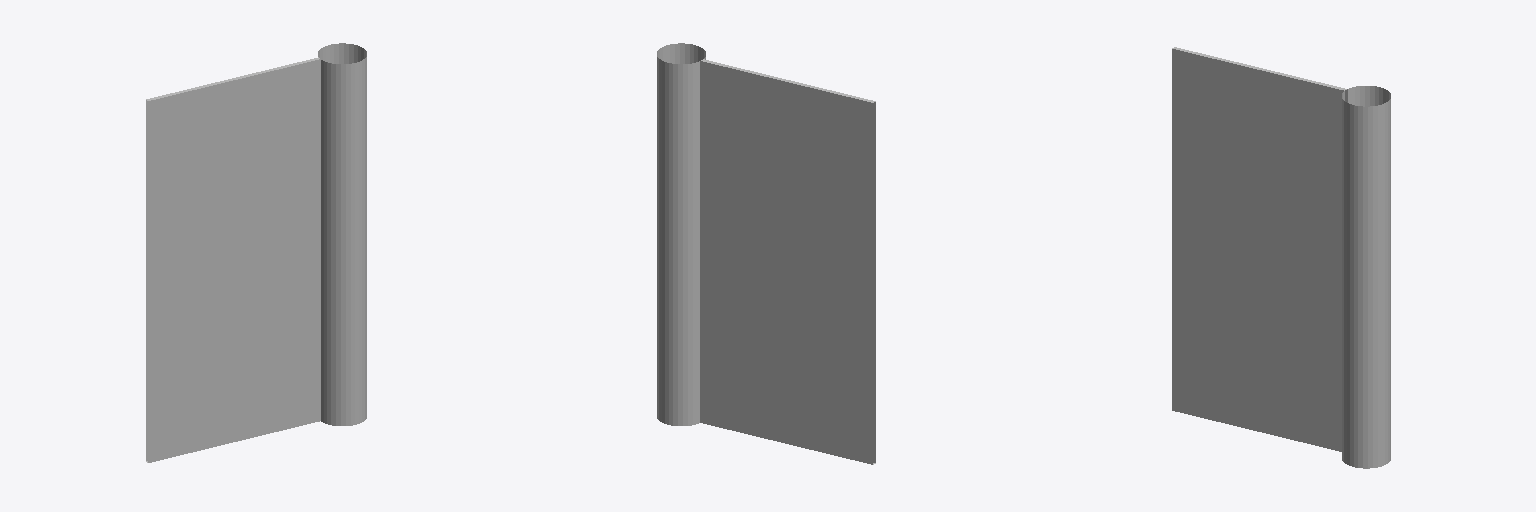
Rendered from spl-goalpost-right-v3.obj.
The picture shows the model from 3 angles: view 1: azimuth 30°, elevation 25°; view 2: azimuth 150°, elevation 25°; view 3: azimuth 330°, elevation 25°; orthographic projection.
Visible parts, largest first — view 1: GoalPost_right_Cylinder.003; view 2: GoalPost_right_Cylinder.003; view 3: GoalPost_right_Cylinder.003.
Boxes of the visible parts, box(x1,y1,x2,y2) form: GoalPost_right_Cylinder.003: box(146, 43, 366, 462); GoalPost_right_Cylinder.003: box(657, 43, 875, 464); GoalPost_right_Cylinder.003: box(1172, 47, 1390, 468).
Bounding box in the file's own units: 5 × 8 × 1.